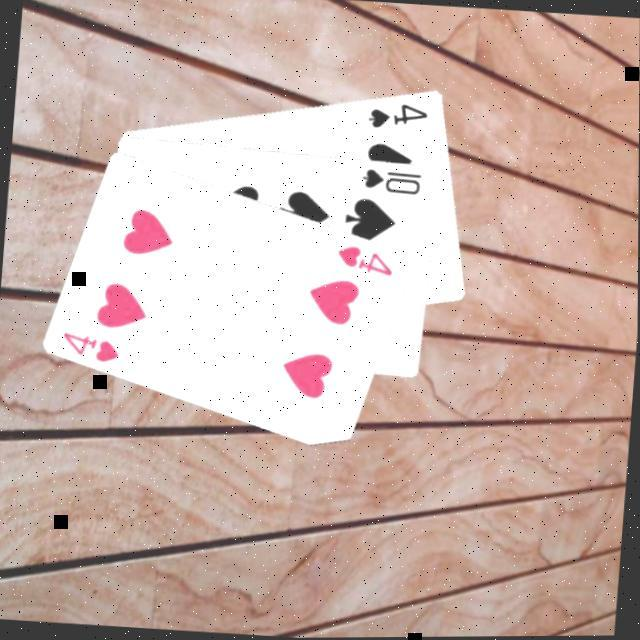10S: (356, 161, 424, 196)
4H: (56, 324, 122, 364), (331, 239, 397, 277)
4S: (362, 94, 430, 133)
